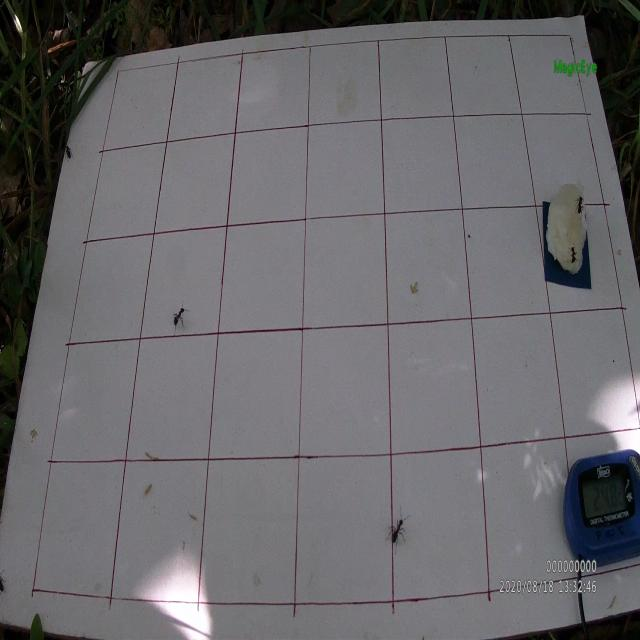Ant: (385, 504, 411, 554), (172, 298, 190, 336), (575, 193, 584, 224), (64, 140, 74, 162), (567, 242, 577, 264)
